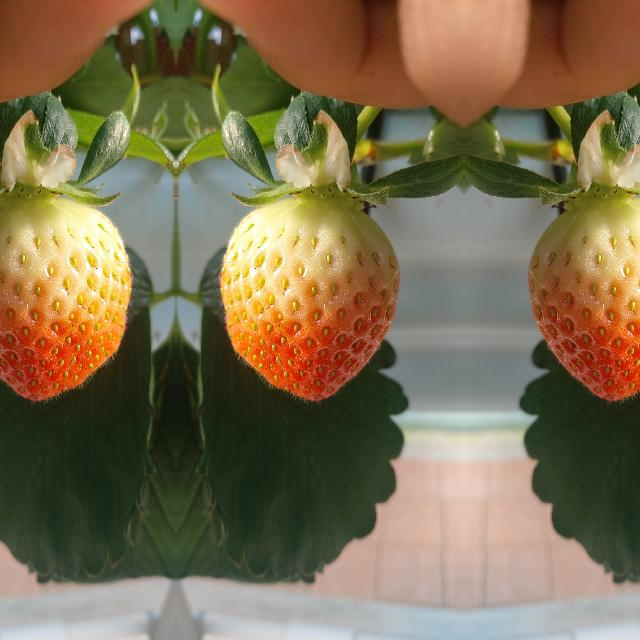Health_75: (220, 198, 398, 400), (0, 197, 130, 400), (527, 197, 640, 400)
